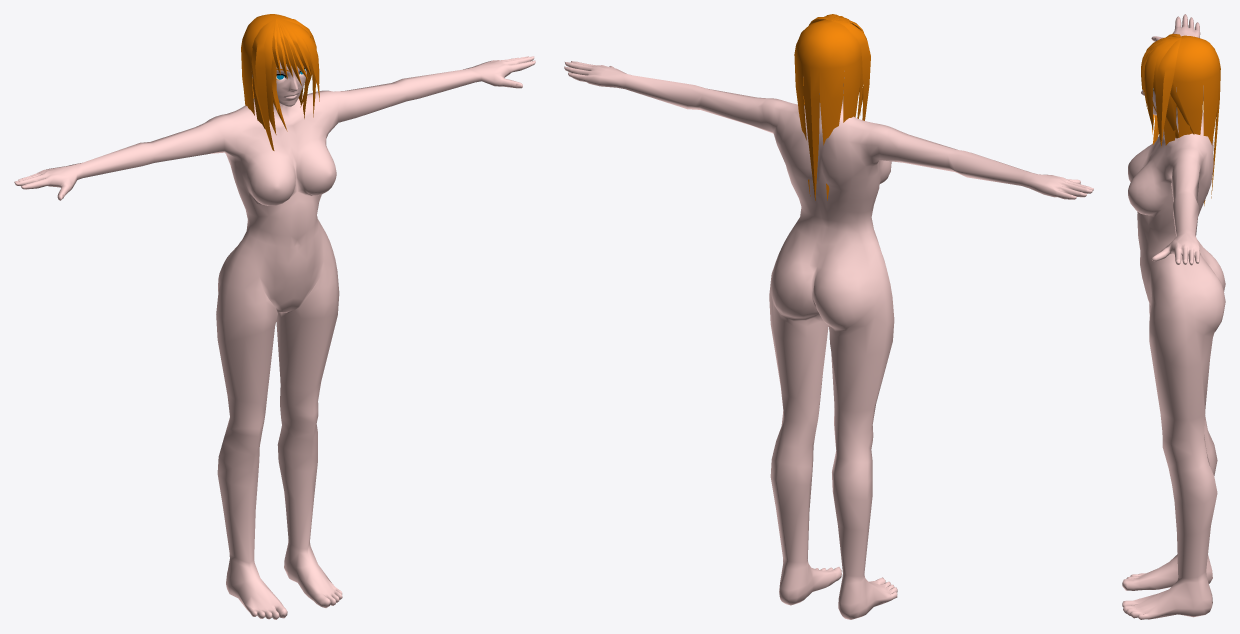
File: ludzikBLENDA.fbx
The picture shows the model from 3 angles, left to right: view 1: azimuth 30°, elevation 25°; view 2: azimuth 150°, elevation 25°; view 3: azimuth 270°, elevation 25°; orthographic projection. The views are drawn at different scales.
Visible parts, largest first — view 1: Blenda-BODY, Blenda-HAIR(Placeholder); view 2: Blenda-BODY, Blenda-HAIR(Placeholder); view 3: Blenda-BODY, Blenda-HAIR(Placeholder).
Part boxes in pixels (bbox=[...]): Blenda-BODY: bbox=[14, 56, 535, 619]; Blenda-HAIR(Placeholder): bbox=[241, 14, 319, 150]; Blenda-BODY: bbox=[564, 61, 1093, 619]; Blenda-HAIR(Placeholder): bbox=[794, 14, 870, 200]; Blenda-BODY: bbox=[1122, 14, 1225, 619]; Blenda-HAIR(Placeholder): bbox=[1141, 33, 1220, 205].
Size of the model in its own units: 173 by 182 by 30.4.
